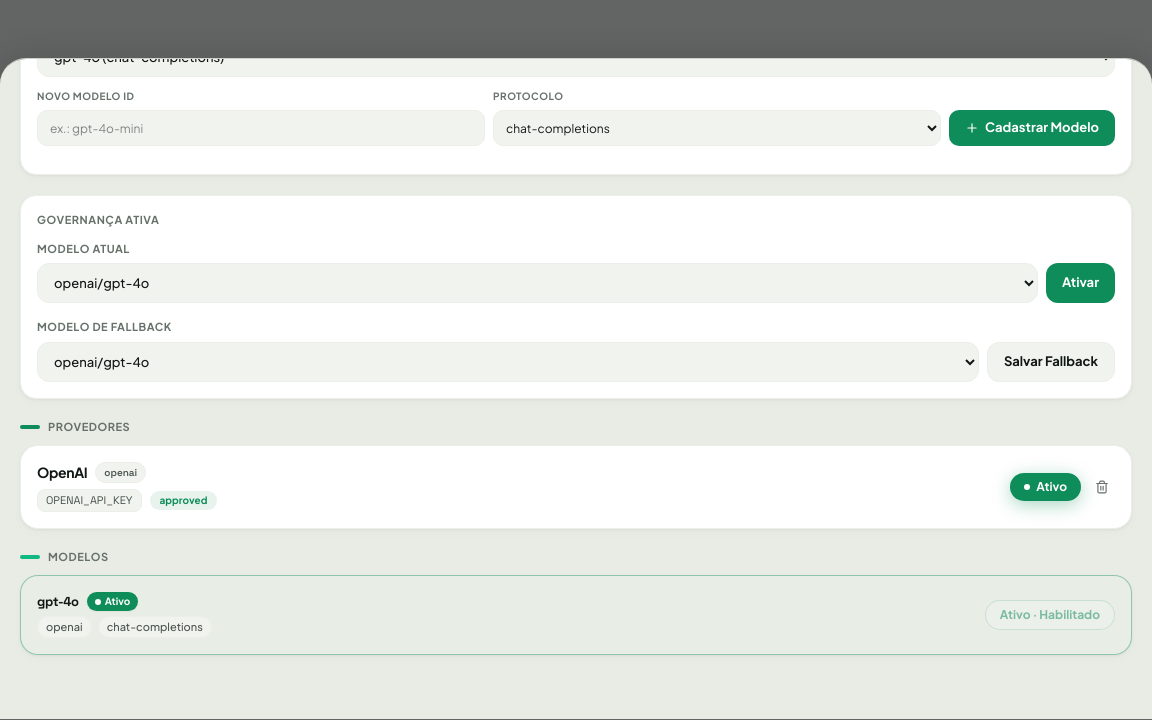
Scenario: Phase0 PWA — RED→GREEN › 9a: delete provider limpa orphan selections
(page scrolled)
Expected: the dropdown labelled "Modelo de Fallback" shows "openai/gpt-4o", top-left (37, 342), bottom-right (979, 382)
Note: fallback choice should be set (need to render Governance)
Click the button named "Excluir provedor openai".
click(1102, 487)  # box top-left (1089, 474), bottom-right (1115, 500)
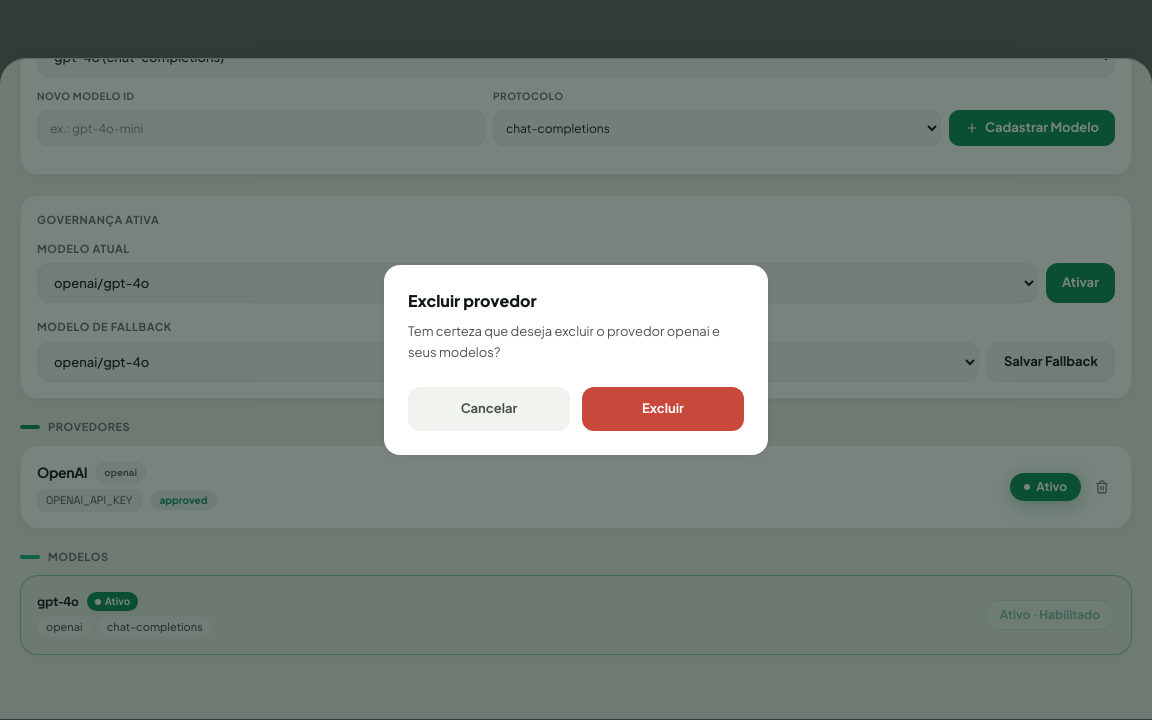
Click the button "Excluir".
click(663, 409)  # box top-left (582, 387), bottom-right (744, 431)
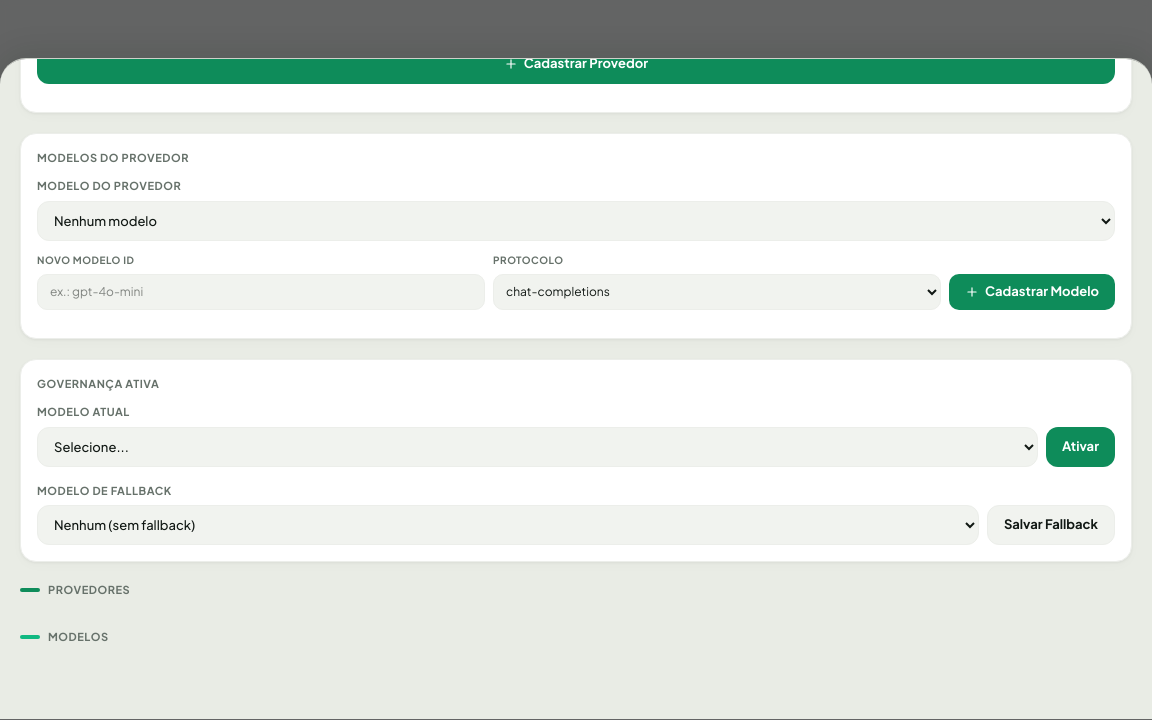
Result: the dropdown labelled "Modelo de Fallback" shows "Nenhum (sem fallback)" at top-left (37, 505), bottom-right (979, 545)
